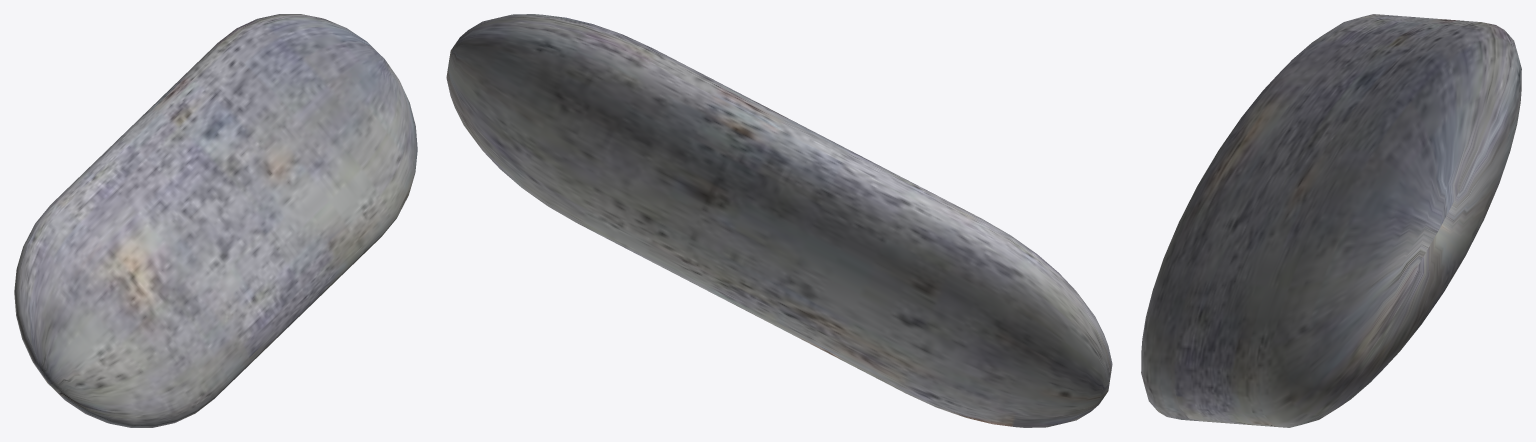
File: Fin_Rear_Right.fbx
3 renders of one model, left to right at view 1: azimuth 30°, elevation 25°; view 2: azimuth 150°, elevation 25°; view 3: azimuth 270°, elevation 25°, orthographic. The views are drawn at different scales.
Parts seen in each view (by area): view 1: Fin_Rear_Right; view 2: Fin_Rear_Right; view 3: Fin_Rear_Right.
Boxes of the visible parts, x1,y1,x2,y2 form: Fin_Rear_Right: (14,14,417,427); Fin_Rear_Right: (446,14,1112,427); Fin_Rear_Right: (1141,14,1521,427).
Size of the model in its own units: 1.08 by 0.7192 by 0.4758.
